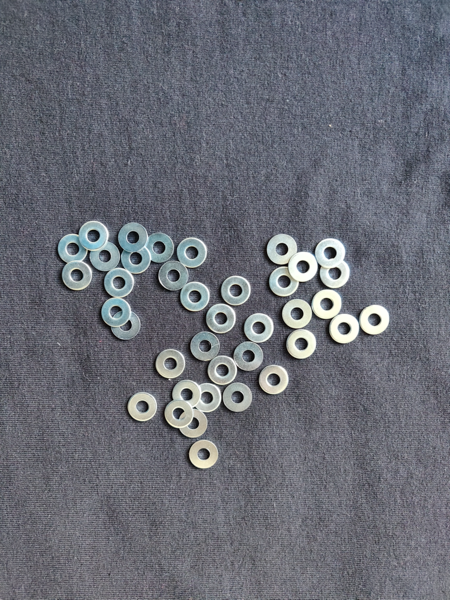circle: (257, 361, 290, 398), (360, 300, 392, 337), (120, 242, 153, 277), (59, 230, 90, 267), (186, 439, 221, 471), (155, 348, 188, 381), (157, 261, 190, 294), (221, 381, 254, 414), (78, 220, 110, 254), (268, 266, 303, 297), (206, 355, 239, 387), (288, 250, 320, 283), (328, 313, 360, 346), (99, 297, 133, 328), (145, 231, 176, 265), (189, 330, 223, 361), (127, 391, 159, 423), (244, 314, 276, 346), (286, 329, 318, 361), (267, 234, 299, 266), (316, 237, 348, 269), (110, 311, 143, 342), (89, 239, 120, 272), (177, 237, 208, 269), (179, 280, 210, 312), (207, 303, 238, 335), (221, 274, 252, 306), (163, 399, 194, 431), (281, 299, 313, 330), (313, 289, 344, 320), (104, 268, 136, 298), (169, 379, 199, 411), (193, 381, 223, 413), (232, 342, 264, 372), (320, 259, 352, 289), (179, 409, 209, 440), (63, 259, 92, 291), (119, 221, 148, 252)
